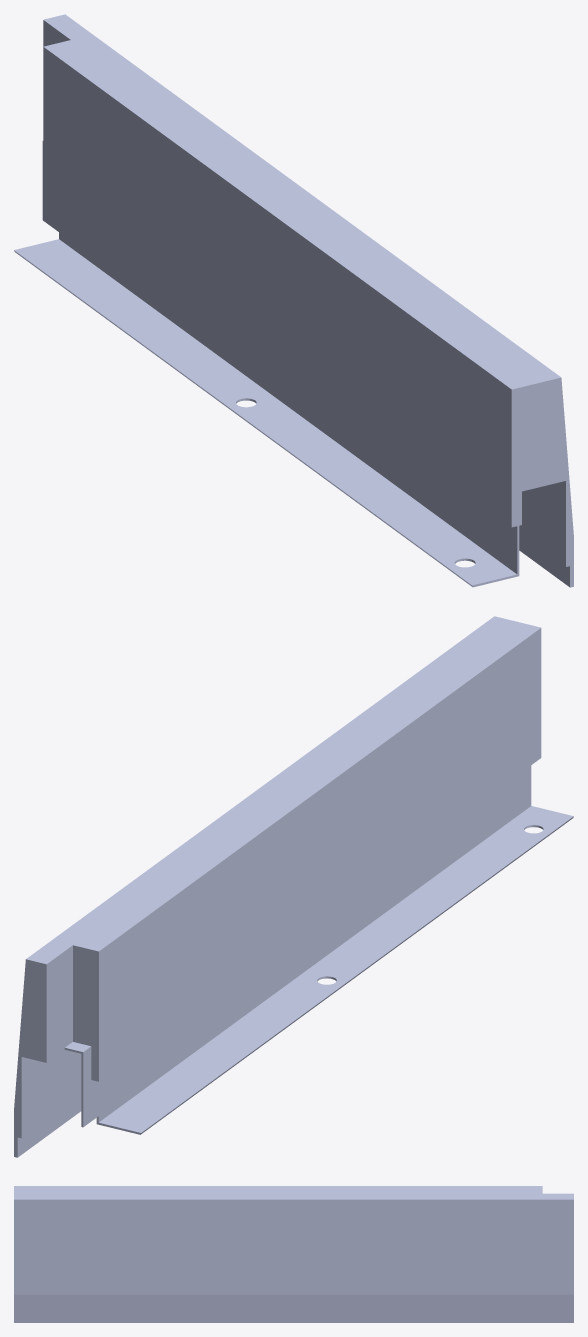
The model's file is mv-kava-N300-m.glb.
3 renders of one model, top to bottom at view 1: azimuth 30°, elevation 25°; view 2: azimuth 150°, elevation 25°; view 3: azimuth 270°, elevation 25°, orthographic. The views are drawn at different scales.
Visible parts, largest first — view 1: 44291017; view 2: 44291017; view 3: 44291017.
Boxes of the visible parts, <box> form: 44291017: <box>14,14,573,587</box>; 44291017: <box>14,616,573,1157</box>; 44291017: <box>14,1186,573,1322</box>.
Bounding box in the file's own units: 0.0335 × 0.0685 × 0.2902.
